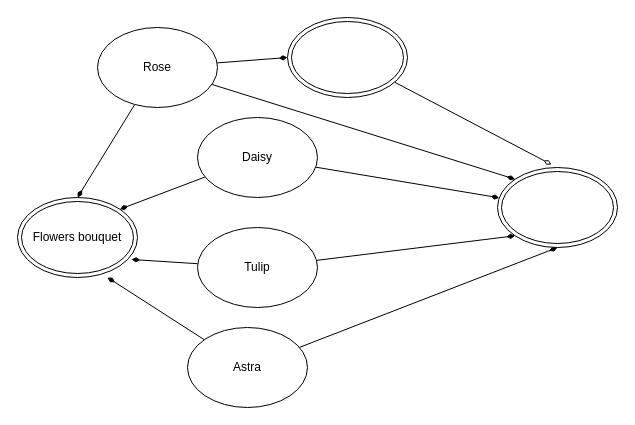
The diagram is 635 pixels wide and 425 high, and some of its shapes have lost their labels. Here are the shapes that lost their labels. From the top down, the box of each, then its label:
(286, 16, 408, 98): Rose bush
(496, 166, 618, 248): Flovers
